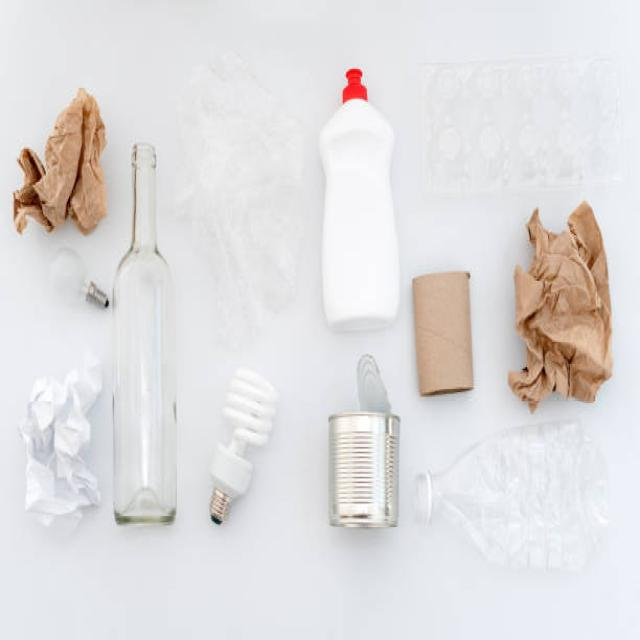cardboard: (409, 265, 485, 391)
glass: (110, 144, 185, 536), (222, 362, 277, 450)
metal: (323, 362, 402, 535)
paper: (508, 204, 620, 401), (10, 89, 100, 229), (22, 368, 97, 526)
plastic: (324, 75, 402, 342)
